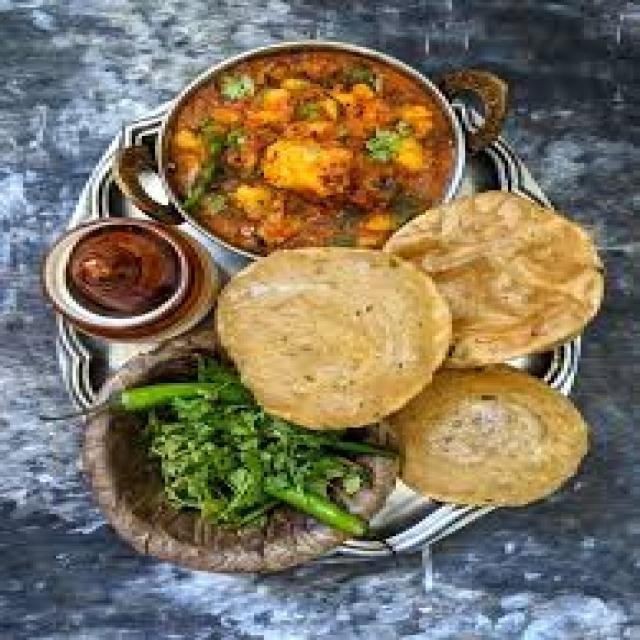dal: (392, 394, 593, 510)
papad: (393, 189, 626, 358)
pickle: (52, 223, 198, 321)
